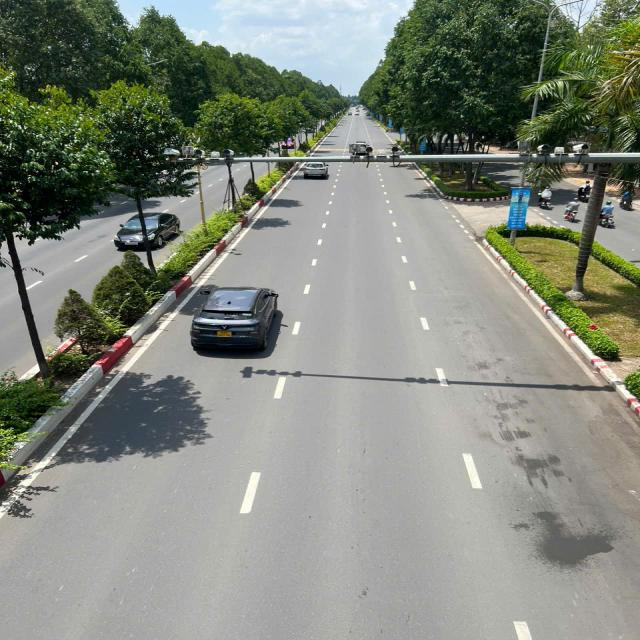car: (188, 282, 283, 356), (111, 209, 185, 252), (300, 154, 333, 180)
motobyte: (595, 200, 621, 230), (537, 183, 557, 214), (617, 186, 639, 213), (562, 197, 582, 224), (578, 177, 594, 204)
